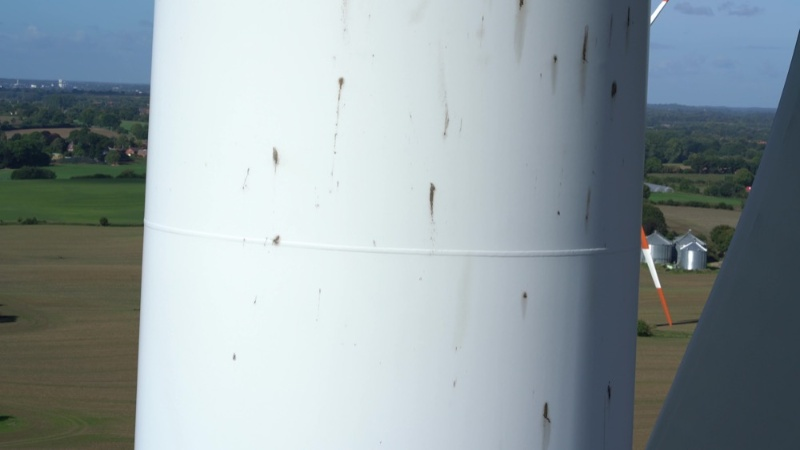weldseam: (140, 213, 644, 260)
